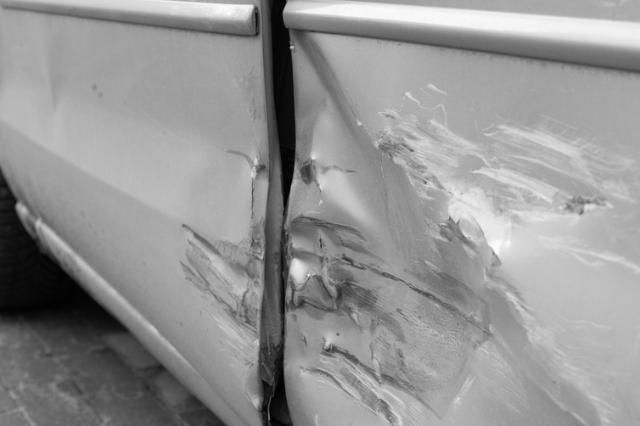Door: (123, 0, 616, 426)
